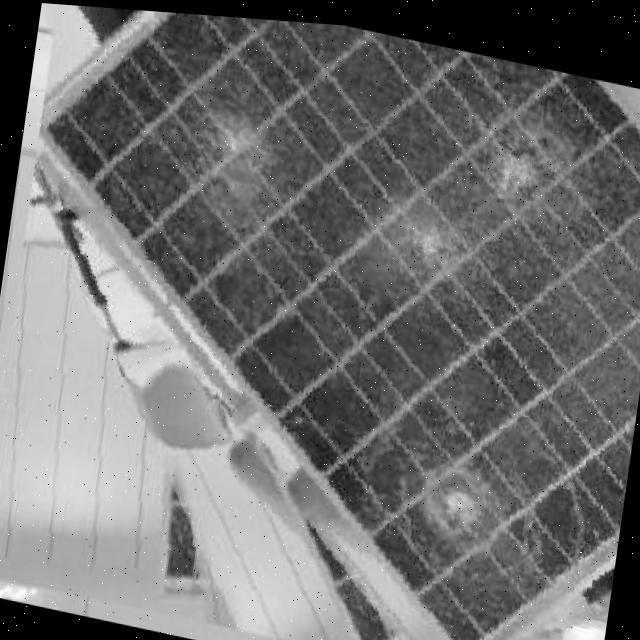Anomaly Solar Panel: (38, 8, 640, 640)
Structural Damage: (363, 422, 556, 573), (178, 74, 305, 209), (382, 178, 483, 296), (454, 116, 564, 204)
